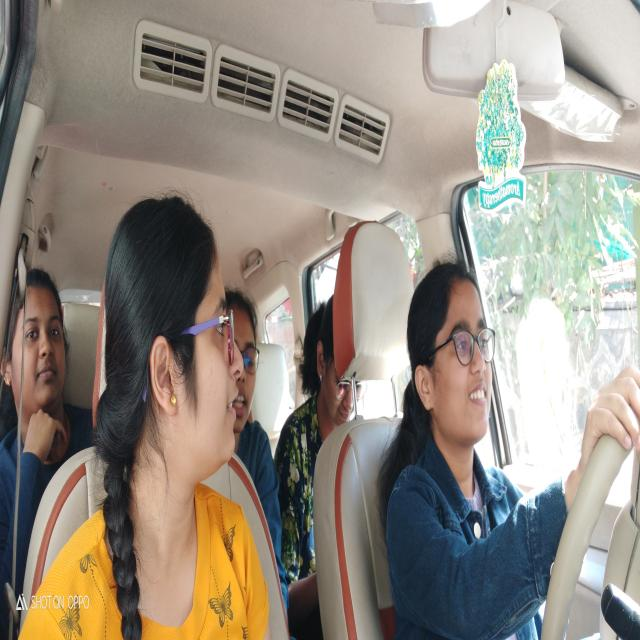person: (114, 202, 239, 461), (408, 278, 496, 440), (14, 282, 68, 412), (309, 293, 356, 421), (232, 293, 260, 434)
